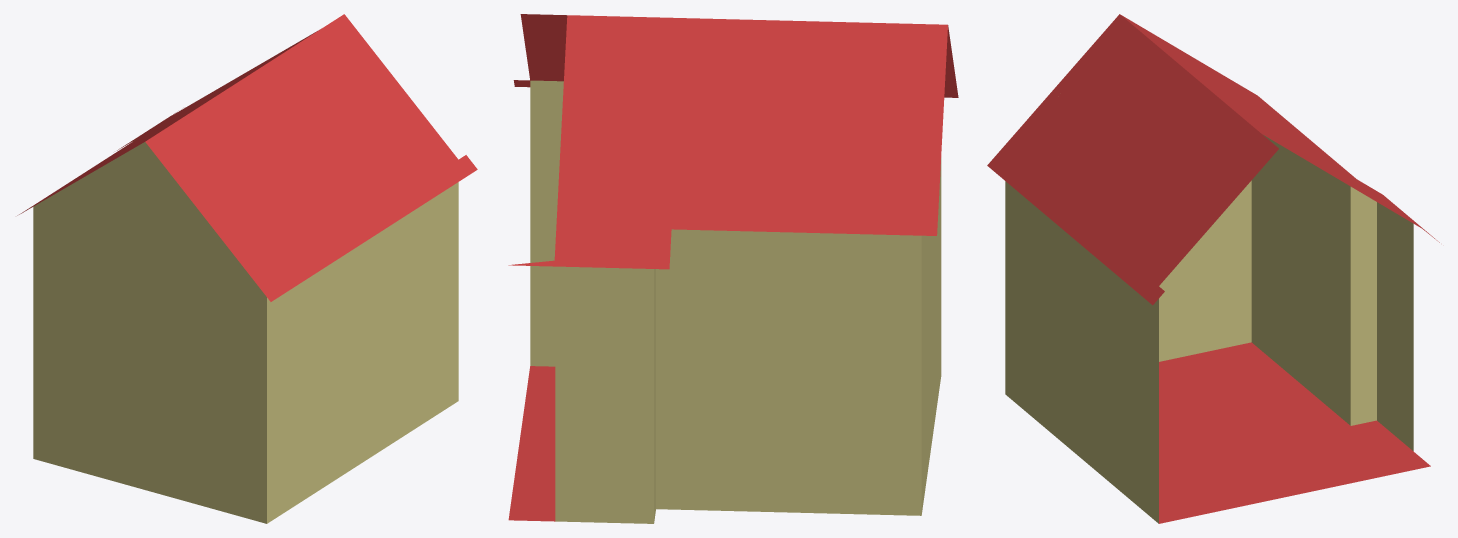
3 views of the same model, side by side, from view 1: azimuth 30°, elevation 25°; view 2: azimuth 150°, elevation 25°; view 3: azimuth 270°, elevation 25° (orthographic). The views are drawn at different scales.
Size of the model in its own units: 17.04 by 16.68 by 14.1.
